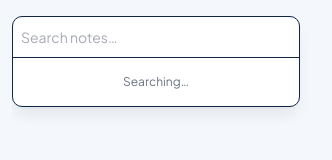
it: WikilinkAutocomplete › Enter on settled results still picks the highlighted row
Later steps or results of the test are not shown.
Type "Budget" into the field labelled "Search notes". click: (156, 37)
box: 21,27 -> 291,47
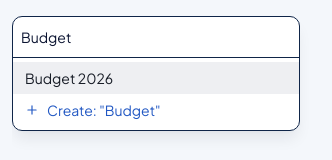
Check: the text "Budget 2026" is shown, box 25,69 -> 113,87
